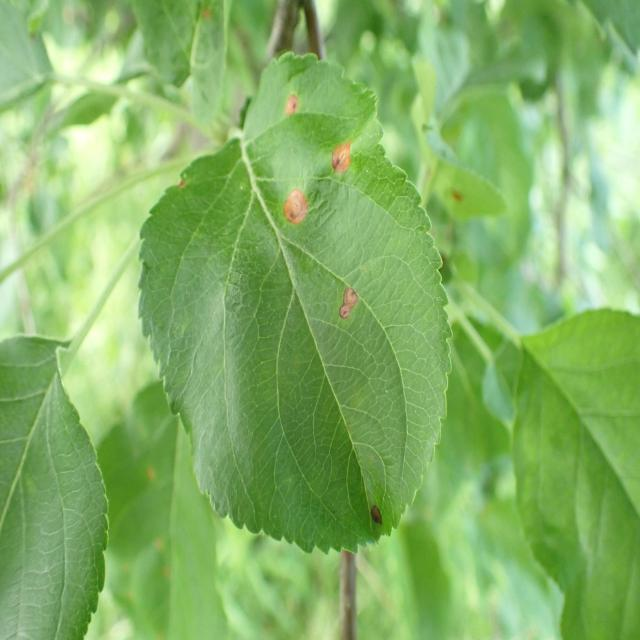frog-eye-leaf-spot: (137, 50, 456, 559)
